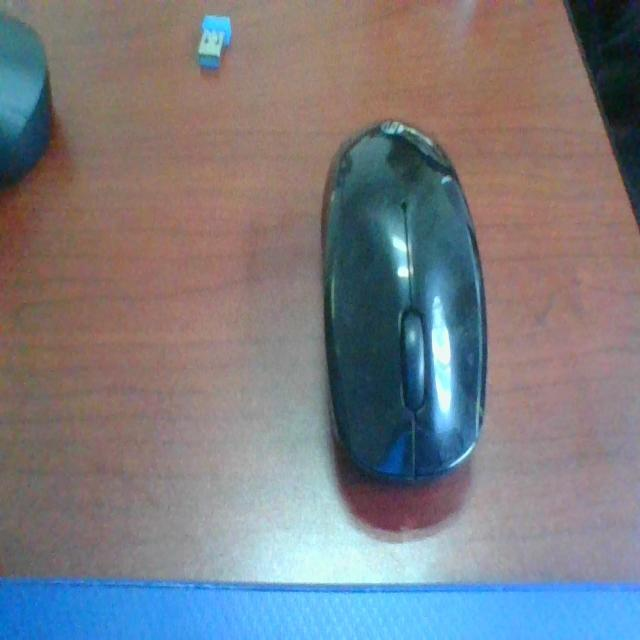mouse: (322, 115, 486, 512)
